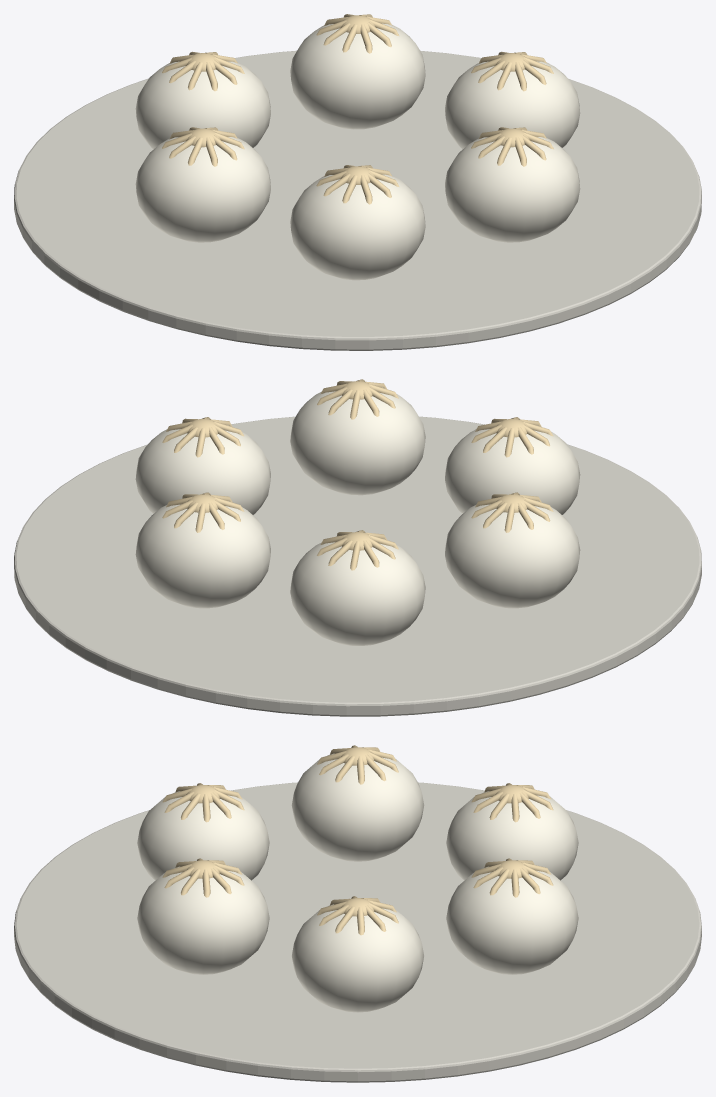
Rendered from pork-bao.glb.
3 renders of one model, top to bottom at view 1: azimuth 30°, elevation 25°; view 2: azimuth 150°, elevation 25°; view 3: azimuth 270°, elevation 25°, orthographic.
Visible parts, largest first — view 1: 27cm demo plate, Dumpling, Dumpling.005, Dumpling.002, Dumpling.004, Dumpling.003, Dumpling.001; view 2: 27cm demo plate, Dumpling.002, Dumpling.003, Dumpling.004, Dumpling, Dumpling.001, Dumpling.005; view 3: 27cm demo plate, Dumpling.004, Dumpling.002, Dumpling, Dumpling.001, Dumpling.003, Dumpling.005.
Boxes of the visible parts, box(x1,y1,x2,y2) form: 27cm demo plate: box(14, 50, 701, 350); Dumpling: box(445, 137, 580, 242); Dumpling.005: box(290, 174, 425, 280); Dumpling.002: box(290, 23, 425, 129); Dumpling.004: box(135, 137, 270, 242); Dumpling.003: box(135, 61, 270, 149); Dumpling.001: box(445, 61, 580, 149); 27cm demo plate: box(14, 416, 701, 716); Dumpling.002: box(135, 501, 270, 608); Dumpling.003: box(290, 539, 425, 645); Dumpling.004: box(445, 501, 580, 608); Dumpling: box(290, 387, 425, 495); Dumpling.001: box(135, 425, 270, 514); Dumpling.005: box(445, 425, 580, 514); 27cm demo plate: box(14, 782, 701, 1082); Dumpling.004: box(291, 753, 424, 861); Dumpling.002: box(446, 866, 578, 974); Dumpling: box(137, 866, 269, 974); Dumpling.001: box(292, 904, 423, 1012); Dumpling.003: box(446, 791, 578, 880); Dumpling.005: box(137, 791, 269, 880).
Bounding box in the file's own units: 0.27 × 0.049 × 0.27.
